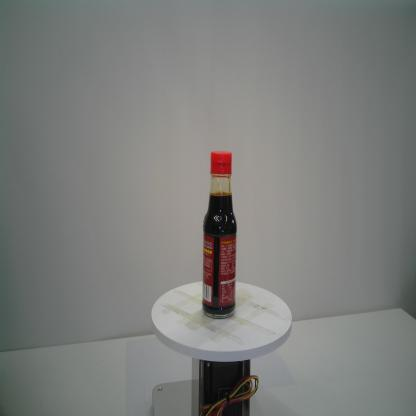Seasoner: (199, 150, 238, 320)
